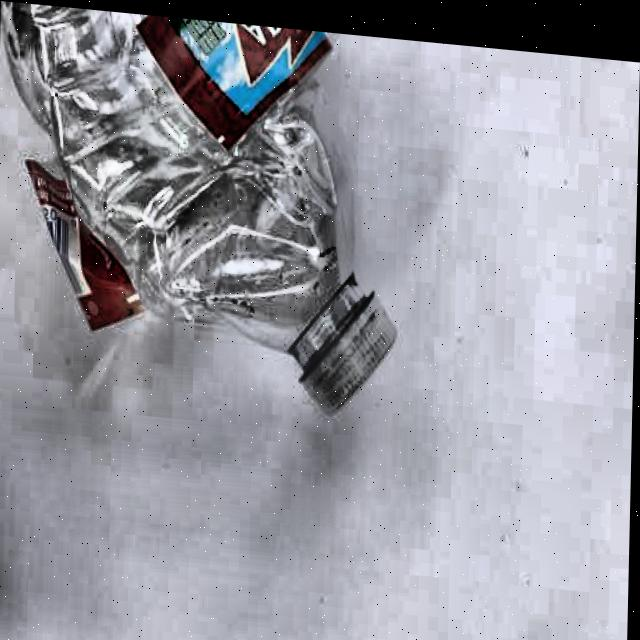plastic: (0, 0, 406, 426)
